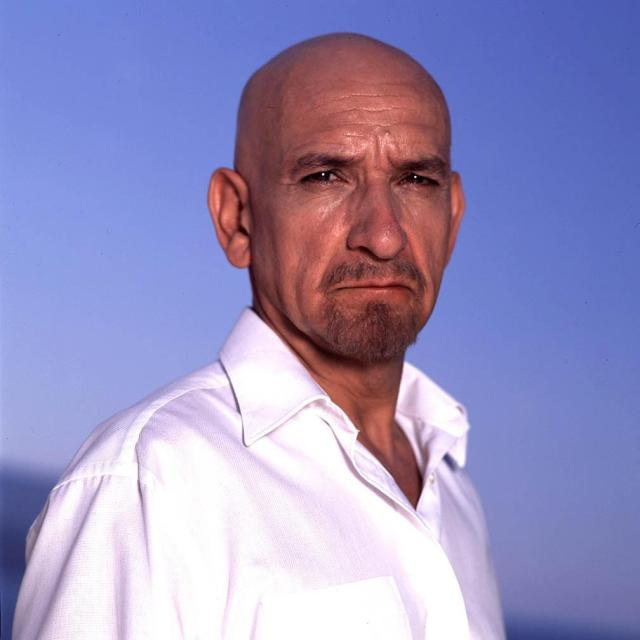no-earmuff: (201, 152, 262, 278), (438, 166, 481, 288)
